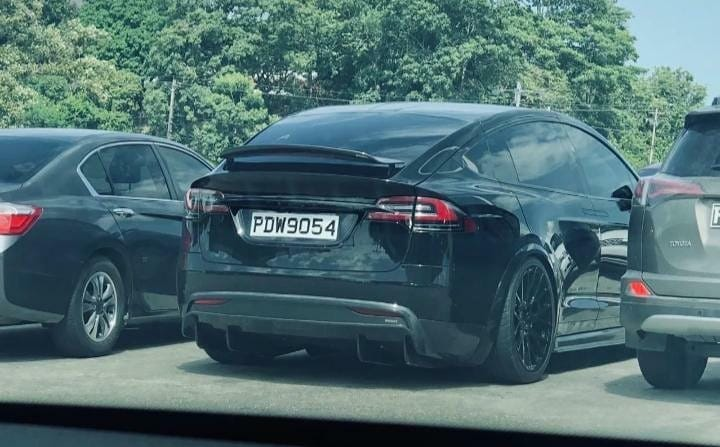License-Plate: (252, 210, 339, 234)
